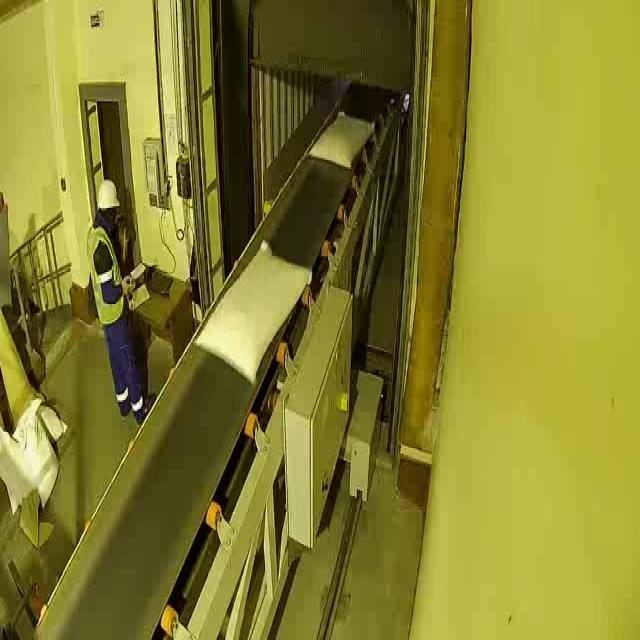bag: (197, 246, 313, 384), (307, 105, 374, 171)
